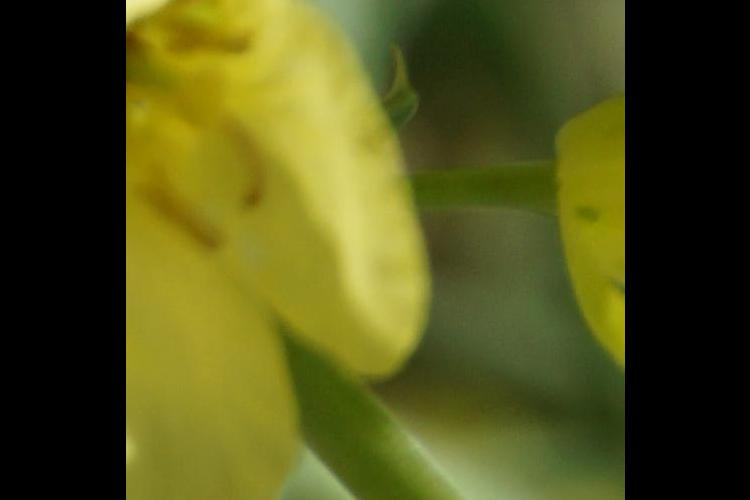yellow: (136, 1, 457, 500)
